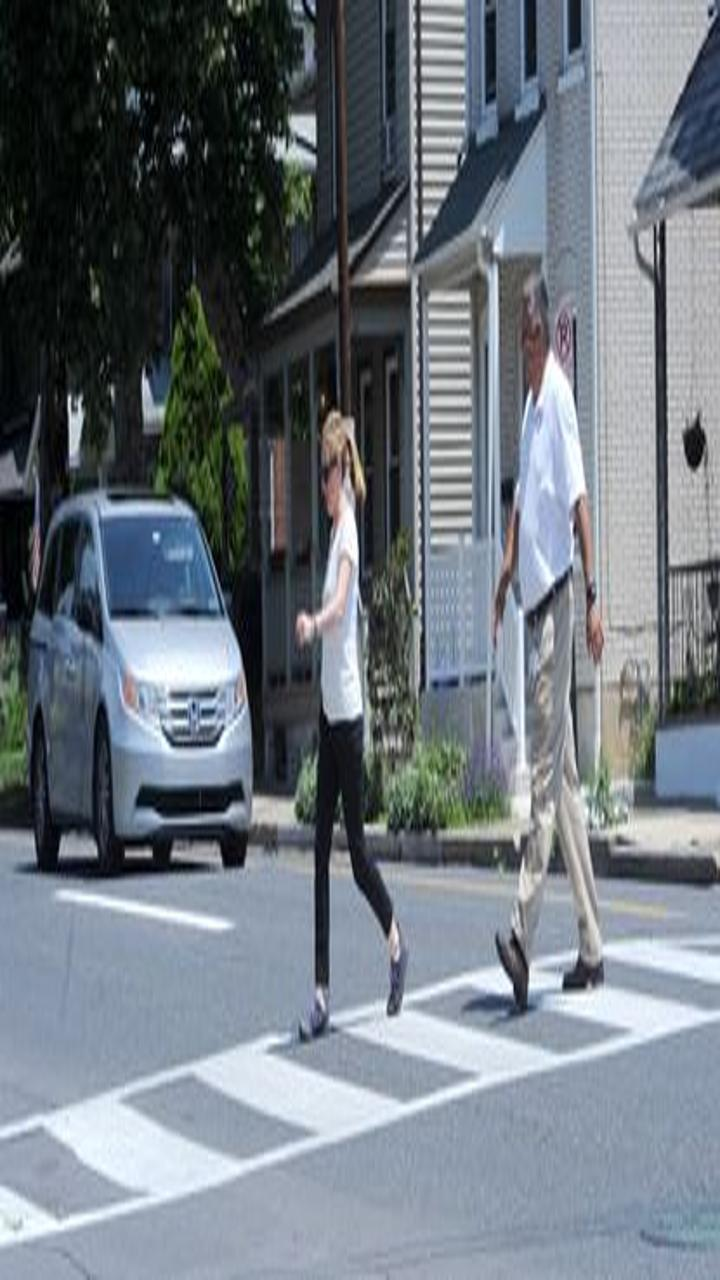pedestrian: (274, 230, 433, 1073), (461, 199, 620, 1042)
vehicle: (28, 488, 262, 875)
